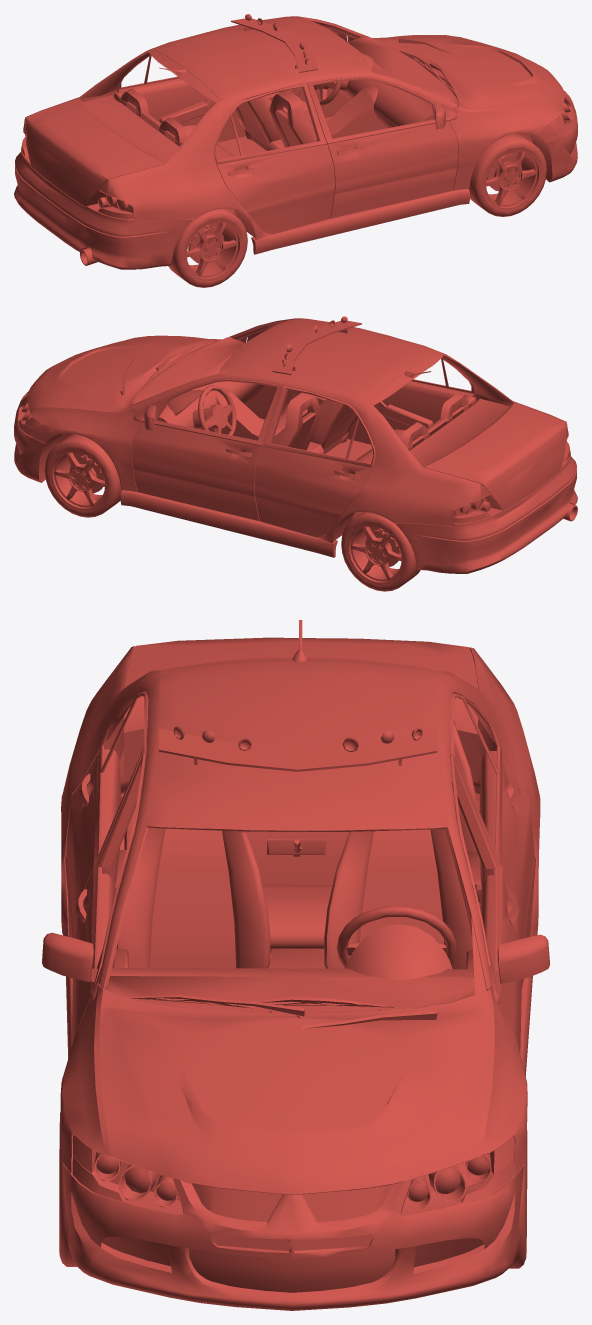
File: car_fire_dep.fbx
The picture shows the model from 3 angles, top to bottom: view 1: azimuth 30°, elevation 25°; view 2: azimuth 150°, elevation 25°; view 3: azimuth 270°, elevation 25°; orthographic projection. The views are drawn at different scales.
Visible parts, largest first — view 1: Car_LP_LOD0; view 2: Car_LP_LOD0; view 3: Car_LP_LOD0.
Part boxes in pixels (box(x1,y1,x2,y2)): Car_LP_LOD0: box(14, 14, 577, 287); Car_LP_LOD0: box(14, 316, 577, 591); Car_LP_LOD0: box(42, 620, 549, 1310).
Size of what is drawn, in the model's own units: 489 by 166 by 211.
